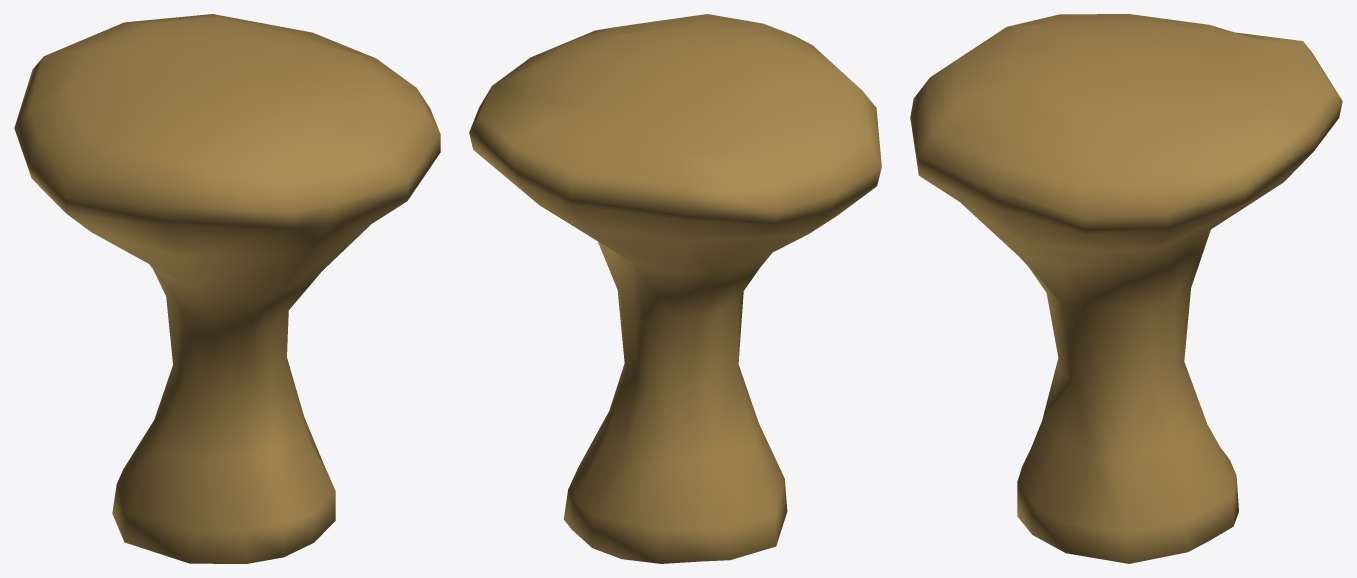
File: coral01.fbx
3 views of the same model, side by side, from view 1: azimuth 30°, elevation 25°; view 2: azimuth 150°, elevation 25°; view 3: azimuth 270°, elevation 25° (orthographic).
Visible parts, largest first — view 1: Coral02_low; view 2: Coral02_low; view 3: Coral02_low.
Boxes of the visible parts, x1,y1,x2,y2 form: Coral02_low: (14, 14, 440, 563); Coral02_low: (469, 14, 881, 563); Coral02_low: (910, 14, 1342, 563).
Size of the model in its own units: 326 by 390 by 332.
